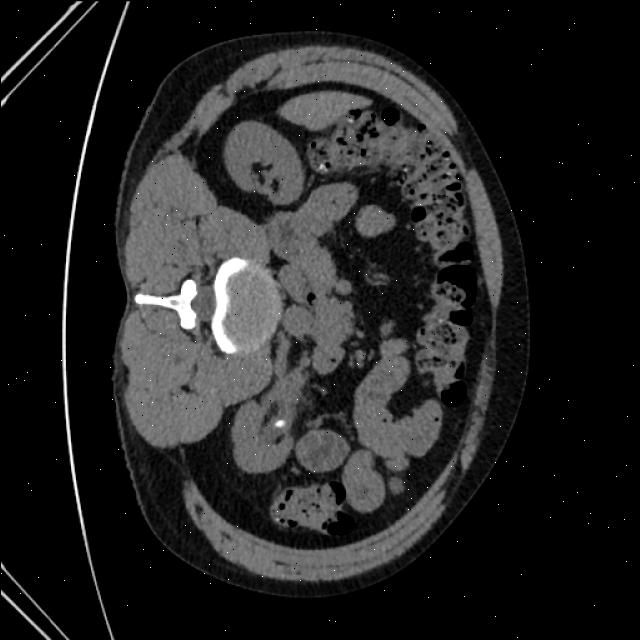kidneystone: (274, 420, 285, 428)
